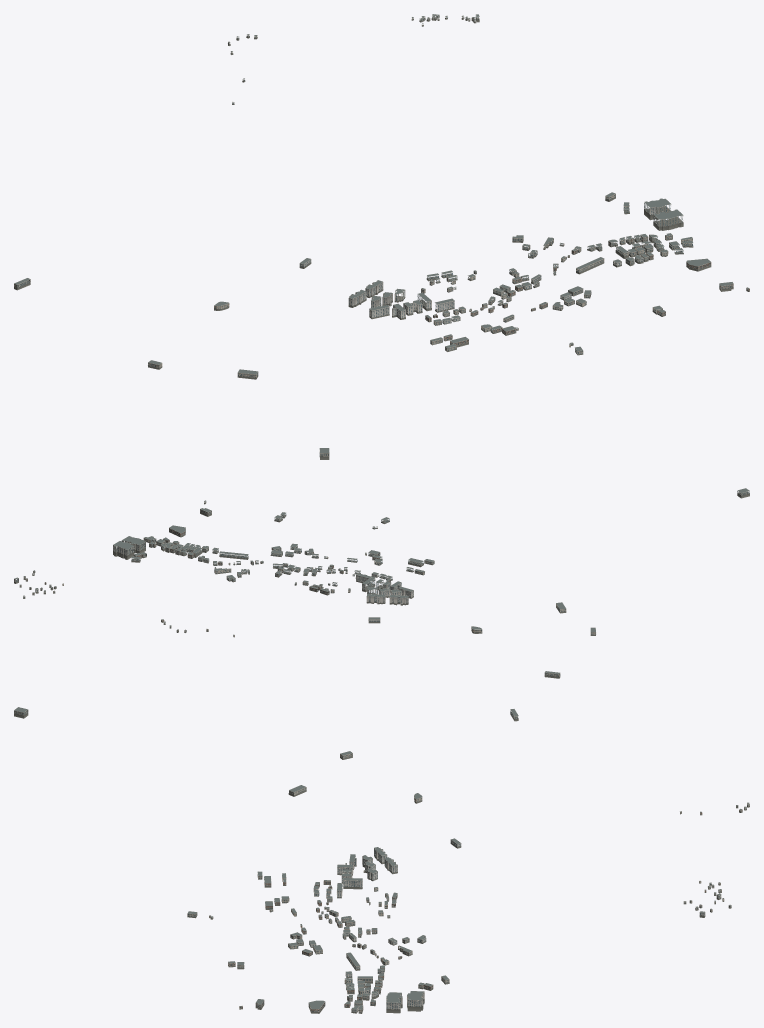
The model's file is surroundings.glb.
3 views of the same model, one above another, from view 1: azimuth 30°, elevation 25°; view 2: azimuth 150°, elevation 25°; view 3: azimuth 270°, elevation 25° (orthographic). The views are drawn at different scales.
Visible parts, largest first — view 1: OSM 주변 건물 · 높이와 입면 근사; view 2: OSM 주변 건물 · 높이와 입면 근사; view 3: OSM 주변 건물 · 높이와 입면 근사.
Boxes of the visible parts, <box> form: OSM 주변 건물 · 높이와 입면 근사: <box>14,14,749,459</box>; OSM 주변 건물 · 높이와 입면 근사: <box>14,488,749,678</box>; OSM 주변 건물 · 높이와 입면 근사: <box>14,707,749,1013</box>.
Size of the model in its own units: 1392 by 253 by 1607.
